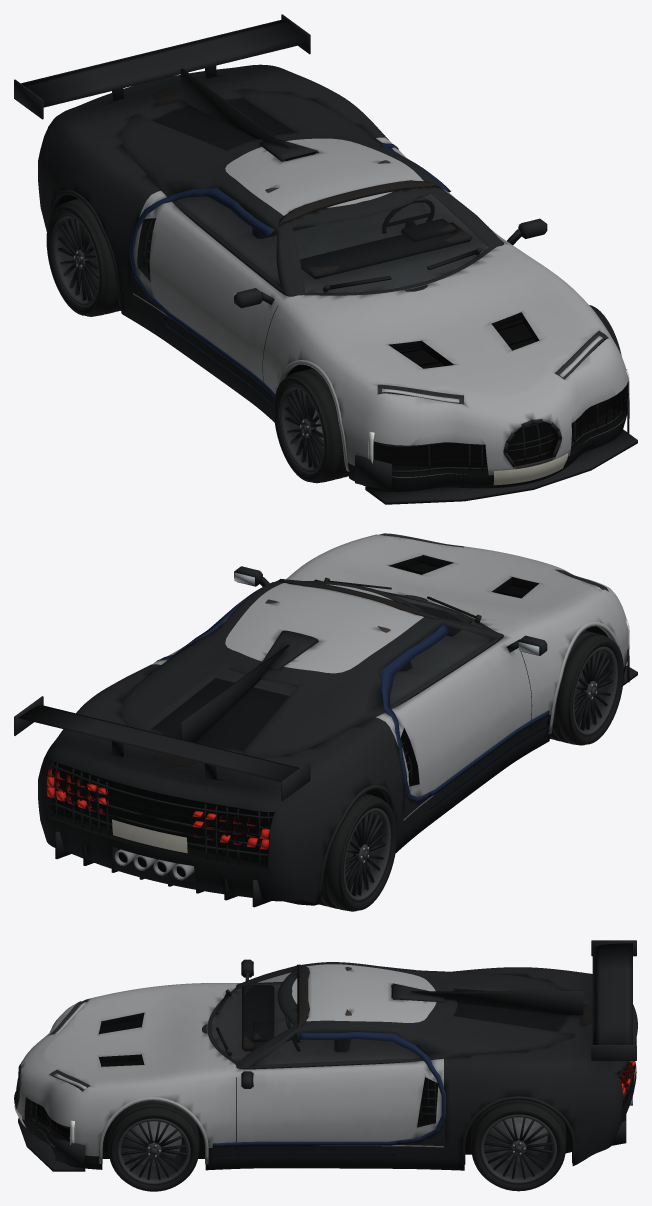
File: bugatti-divo.glb
3 views of the same model, one above another, from view 1: azimuth 30°, elevation 25°; view 2: azimuth 150°, elevation 25°; view 3: azimuth 270°, elevation 25° (orthographic). The views are drawn at different scales.
Visible parts, largest first — view 1: Coachwork, Body, Wheel_FR, Wheel_RR, Plate, Headlights; view 2: Coachwork, Body, Wheel_RR, Wheel_FR, Taillights, Plate; view 3: Coachwork, Body, Wheel_RL, Wheel_FL, Headlights.
Boxes of the visible parts, box(x1,y1,x2,y2) form: Coachwork: box(38, 64, 628, 491); Body: box(14, 14, 637, 504); Wheel_FR: box(274, 368, 348, 483); Wheel_RR: box(46, 198, 120, 316); Plate: box(493, 453, 568, 485); Headlights: box(368, 336, 629, 463); Coachwork: box(38, 533, 628, 905); Body: box(14, 533, 637, 907); Wheel_RR: box(319, 793, 397, 911); Wheel_FR: box(550, 630, 623, 745); Taillights: box(46, 766, 270, 849); Plate: box(112, 819, 187, 853); Coachwork: box(14, 967, 637, 1170); Body: box(14, 940, 636, 1171); Wheel_RL: box(471, 1100, 566, 1191); Wheel_FL: box(108, 1101, 199, 1191); Headlights: box(54, 1002, 86, 1144).
Bounding box in the file's own units: 2.13 × 1.21 × 4.64.
